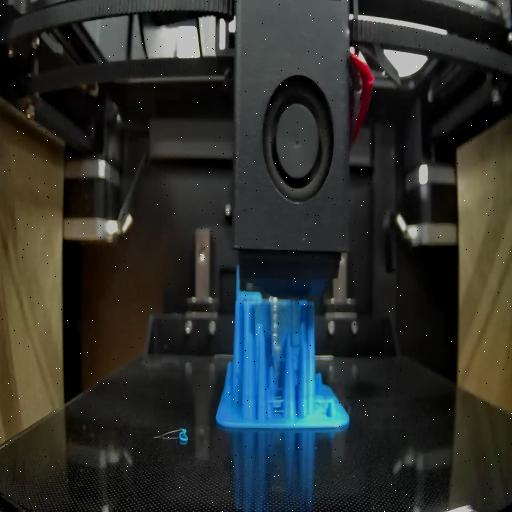stringing: (256, 302, 300, 334), (270, 386, 288, 416)
